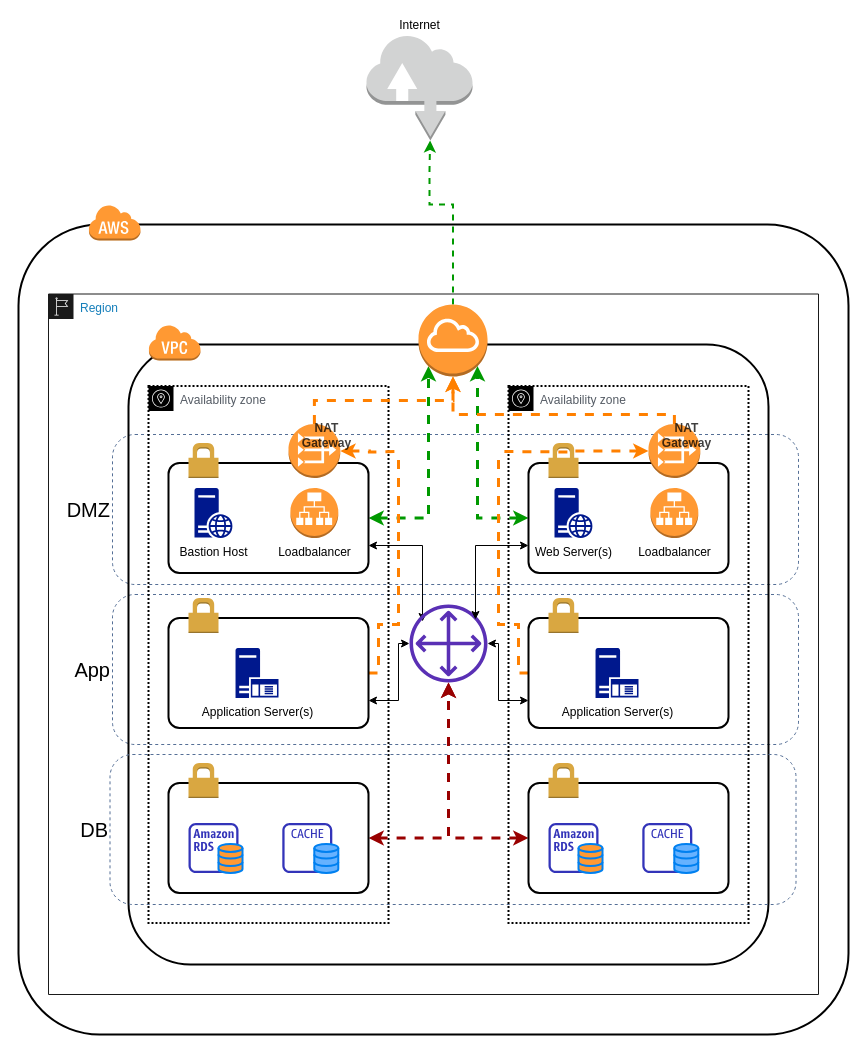
Image size: 866x1052. Some labels were removed from this diagram. Here are the shapes that lost their labels. From the top down, the centre of each, then its label:
At [453,340]: "Internet Gateway".
At [448,643]: "local".
